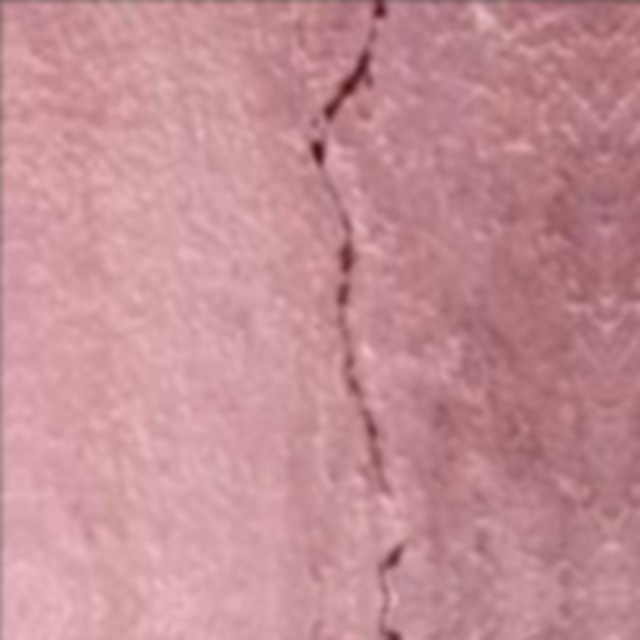SurfaceCrack: (296, 0, 448, 640)
